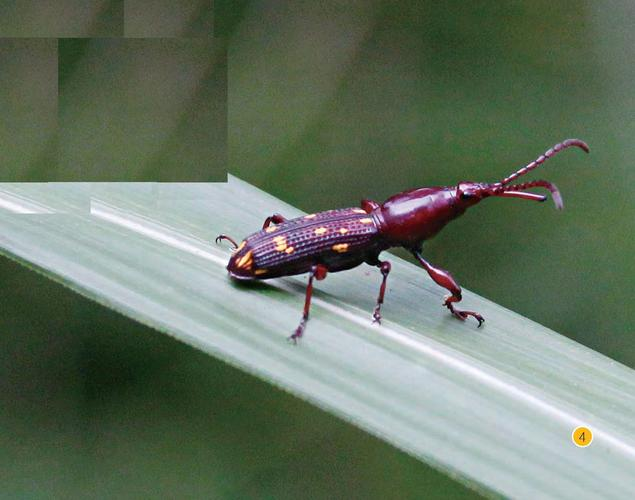Curculionidae: (215, 139, 591, 345)
